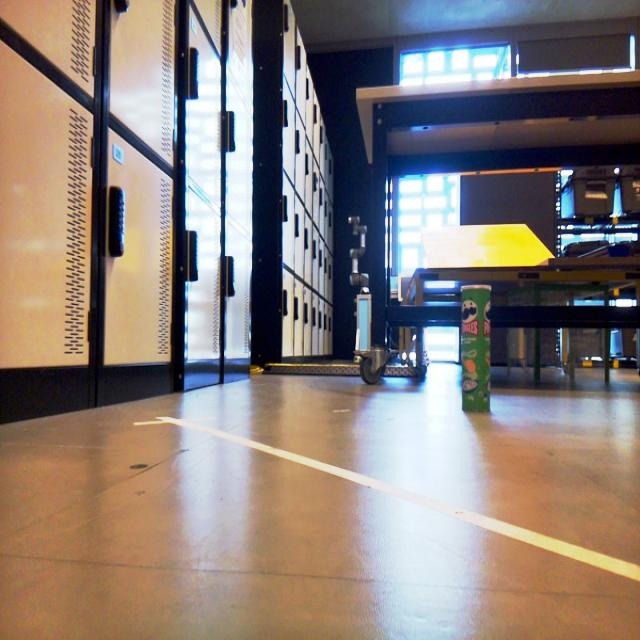greenpringles: (438, 270, 512, 424)
